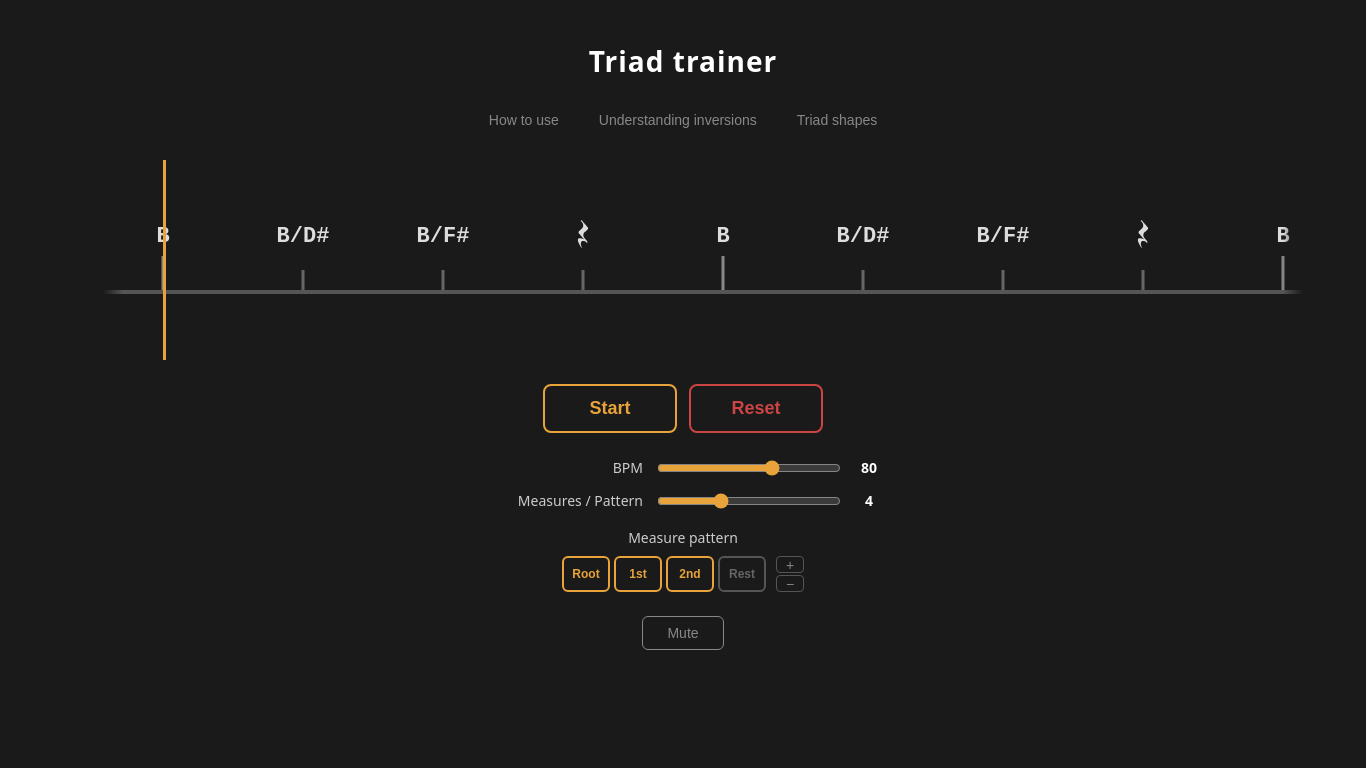
Test: App › shows Resume and Reset buttons after pausing
Click the button "Start": (610,408) left=543, top=384, right=677, bottom=433
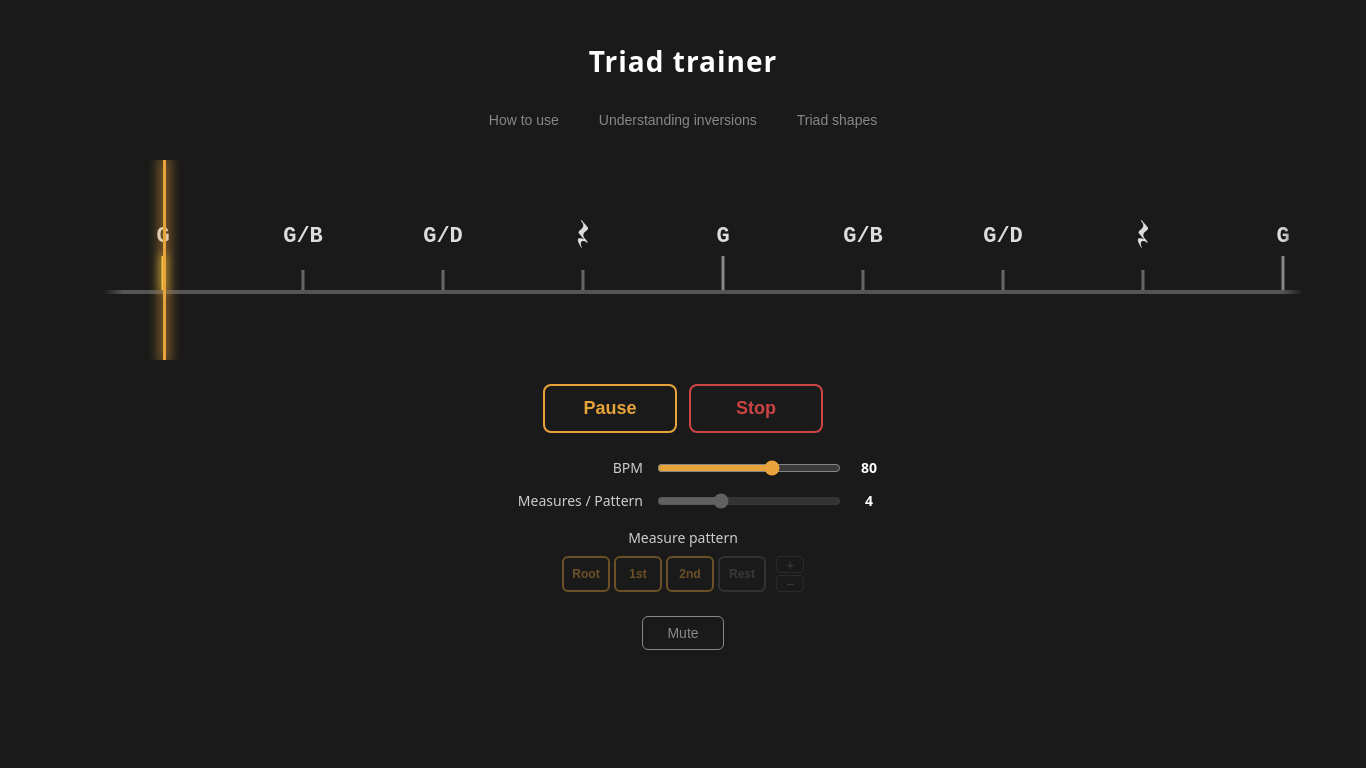
Click the button "Pause": (610,408) left=543, top=384, right=677, bottom=433
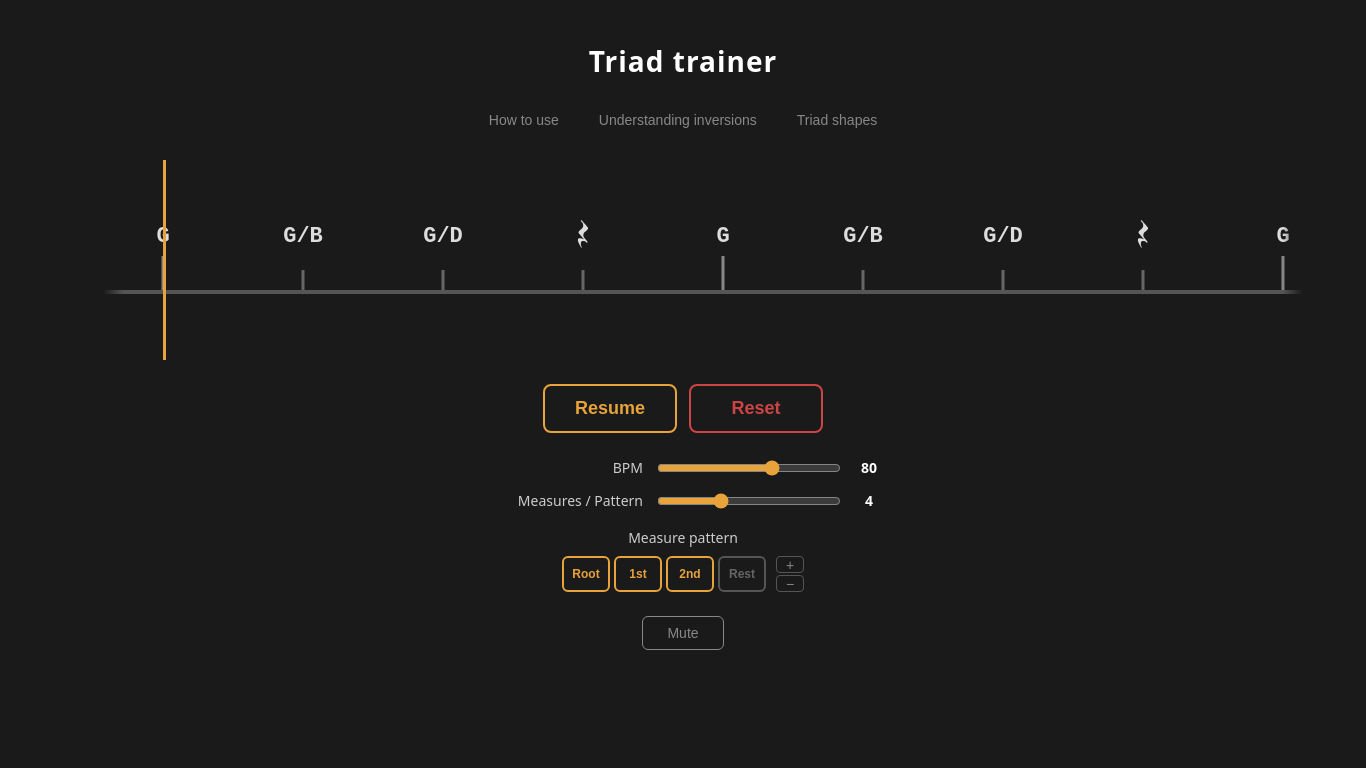
Check: the button "Resume" is shown, box left=543, top=384, right=677, bottom=433
Check: the button "Reset" is shown, box left=689, top=384, right=823, bottom=433
